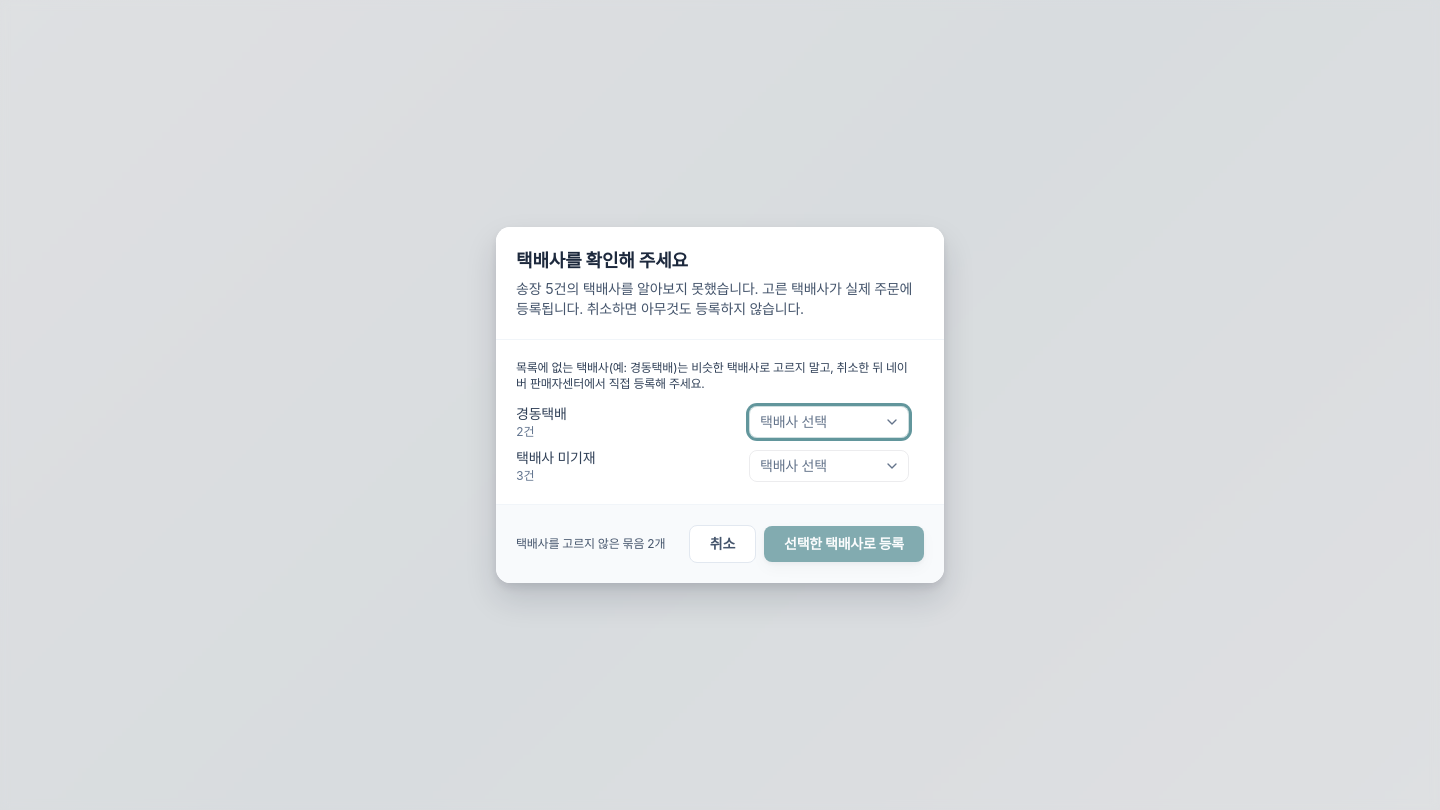
Test: CourierChoiceDialog › 고를 수 있는 것은 서버가 받는 택배사뿐이다
The image size is (1440, 810).
Click the dropdown named "경동택배 택배사 선택" at (829, 422), box left=749, top=406, right=909, bottom=438
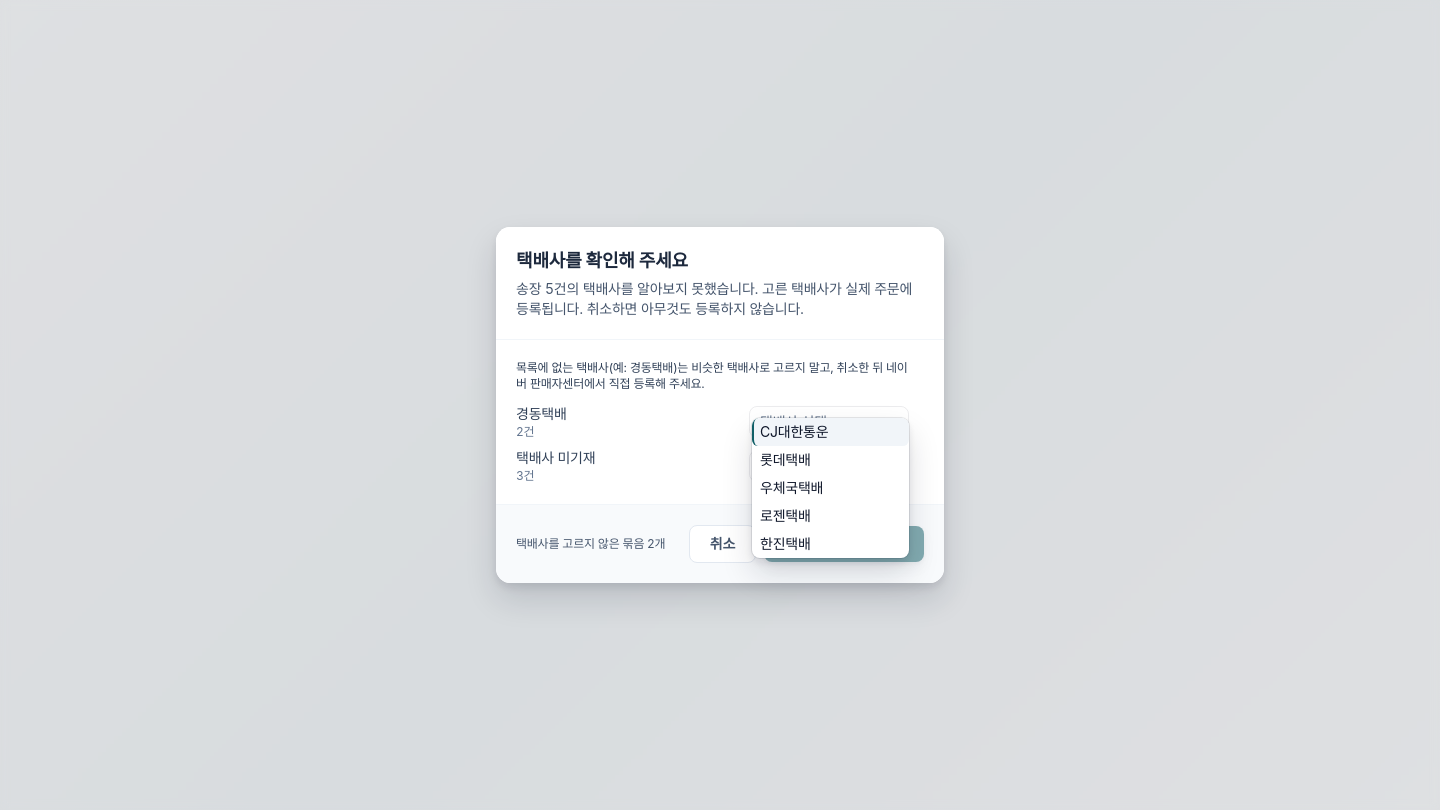
Now the options read "CJ대한통운", "롯데택배", "우체국택배", "로젠택배", "한진택배", in this order, box left=752, top=418, right=909, bottom=446; left=760, top=451, right=811, bottom=468; left=760, top=479, right=823, bottom=496; left=760, top=507, right=811, bottom=524; left=760, top=535, right=811, bottom=552
